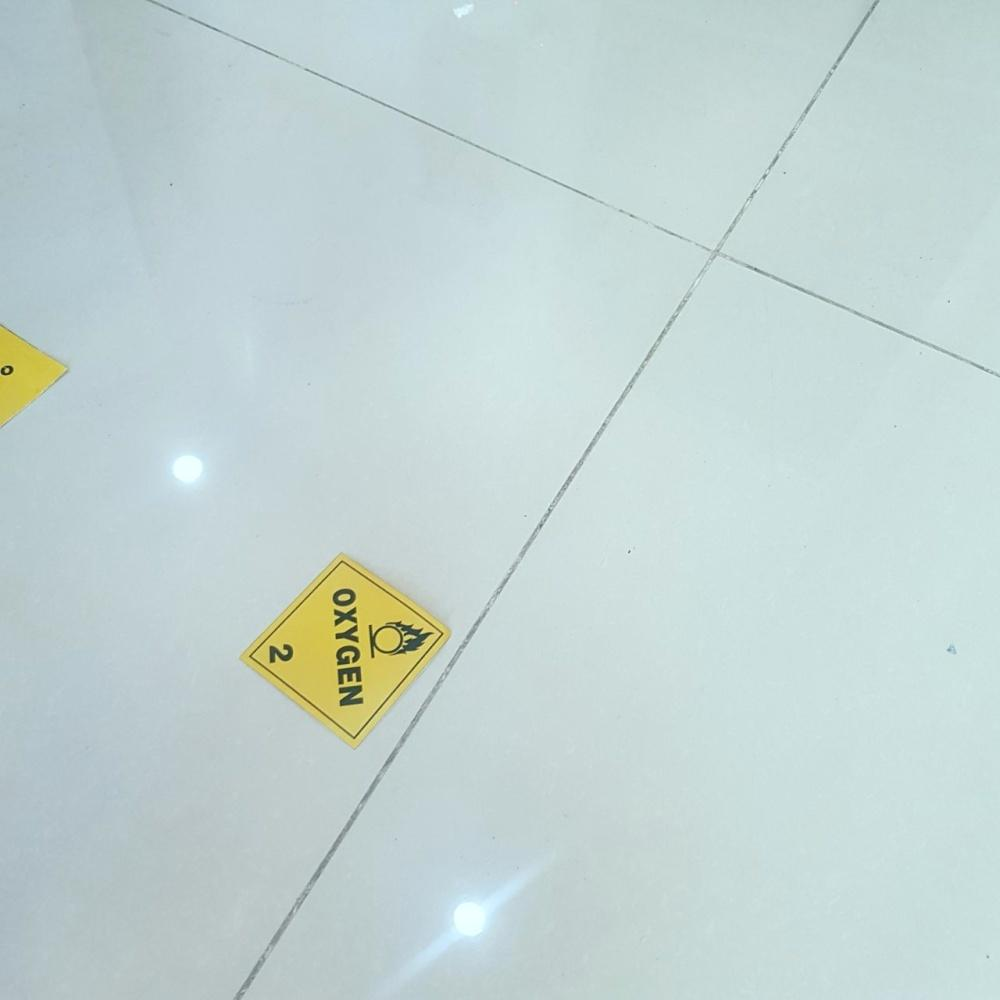oxidizer: (238, 553, 451, 744)
